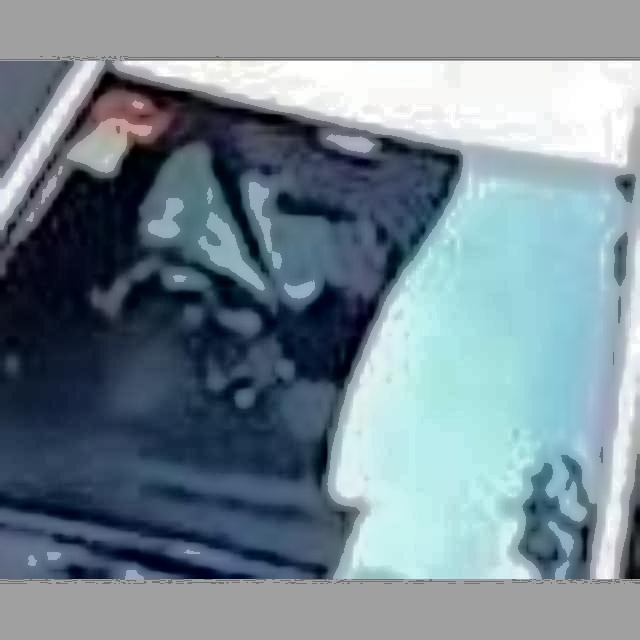pakai: (156, 113, 375, 401)
